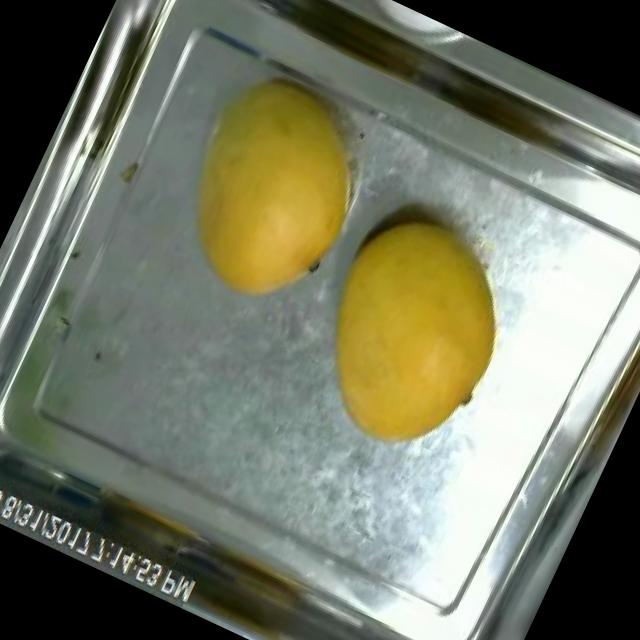fruit: (271, 178, 549, 482), (136, 44, 404, 337)
